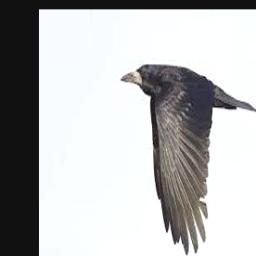Crow: (120, 63, 256, 253)
